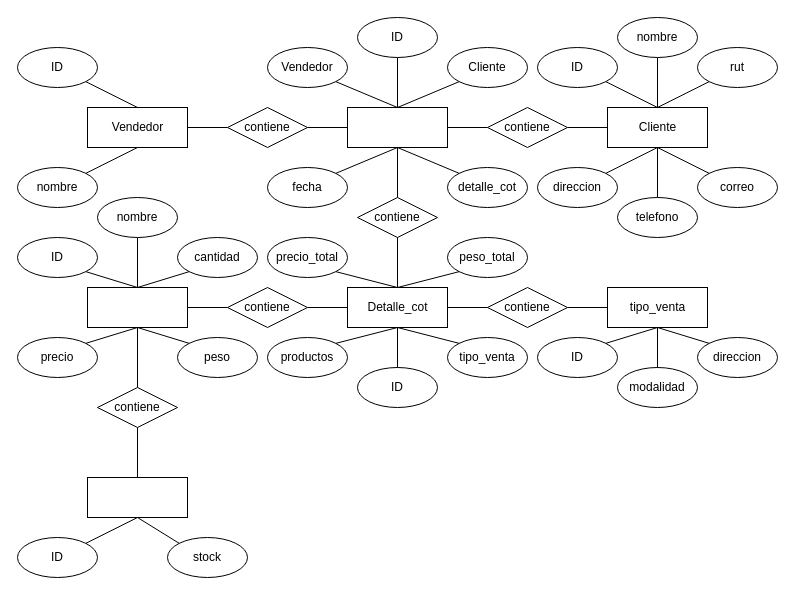
Image size: 795x595. Some labels were removed from this diagram. The shapes that lost their labels are listed below. From the top down, each one's centre as x and y in pixels, then its label:
At pixel 397 127: "Cotizacion".
At pixel 137 307: "producto".
At pixel 137 497: "inventario".
